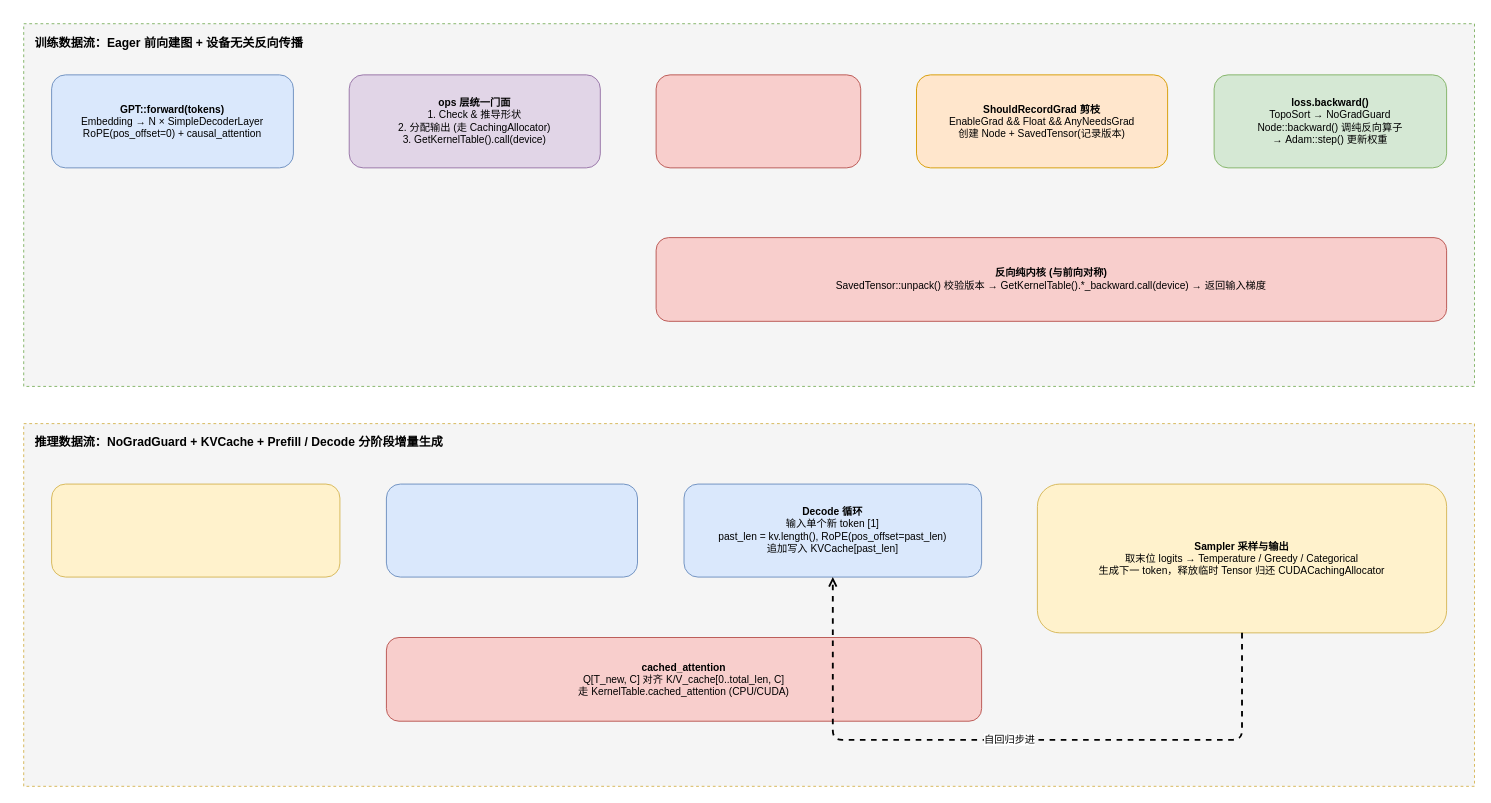
Some shapes in this 1491 by 803 pixel diagram are drawn without their labels. The shapes that lost their labels are listed below. From the top down, each one's centre as x and y in pixels, then its label:
At (758,121): "前向纯内核 CPU / CUDA Kernel (接收 DeviceContext&)".
At (195,530): "推理初始化 NoGradGuard + KVCache(layers, max_seq, channels) 复用同一份 GPT 参数与权重".
At (511,530): "Prefill 阶段 输入 prompt [T_p] past_len = 0, RoPE(pos_offset=0) 写入 KVCache[0..T_p)".
